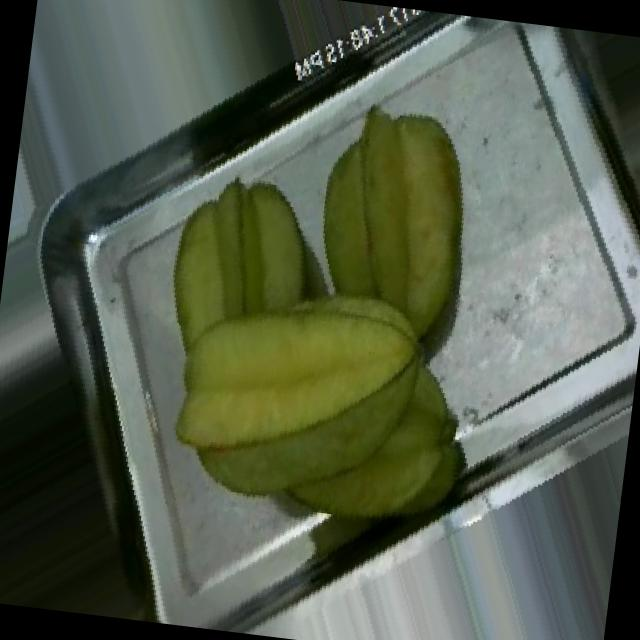fruit: (110, 199, 528, 578), (242, 58, 548, 398)
